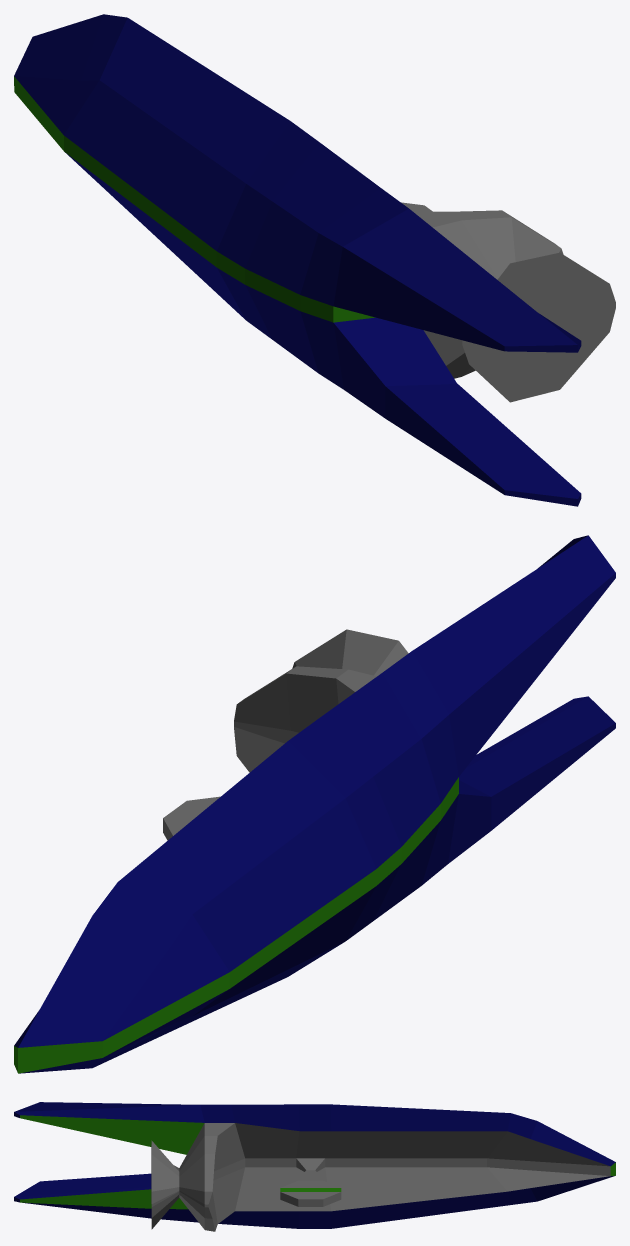
The model's file is Fusion_Frame_Part_Wipeout.fbx.
The picture shows the model from 3 angles, top to bottom: view 1: azimuth 30°, elevation 25°; view 2: azimuth 150°, elevation 25°; view 3: azimuth 270°, elevation 25°; orthographic projection. The views are drawn at different scales.
Parts seen in each view (by area): view 1: Fusion_Frame_Ship; view 2: Fusion_Frame_Ship; view 3: Fusion_Frame_Ship.
Part boxes in pixels (x1,y1,x2,y2): Fusion_Frame_Ship: (14,14,615,506); Fusion_Frame_Ship: (14,535,615,1073); Fusion_Frame_Ship: (14,1102,615,1231).
Size of the model in its own units: 447 by 1699 by 388.
